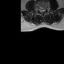CCS_normal: (41, 8, 43, 14)
LFS_normal: (44, 7, 46, 12)
LLS_normal: (43, 8, 44, 13)
RFS_normal: (37, 8, 39, 12)
RLS_normal: (39, 8, 41, 13)
